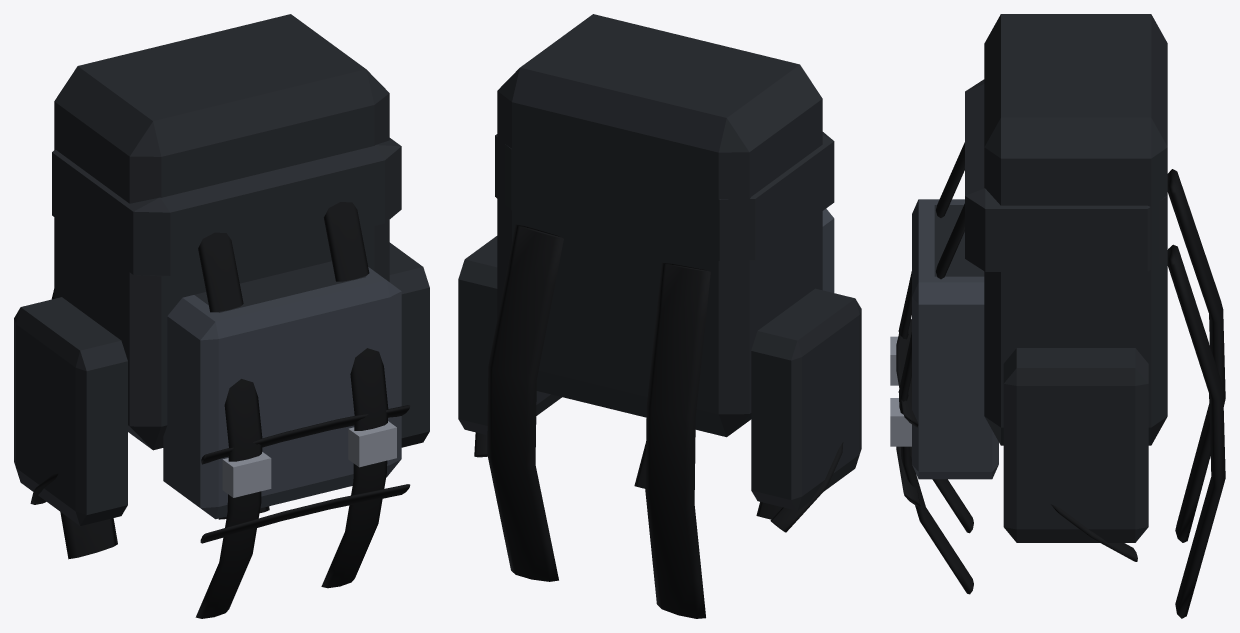
File: ransel_pubg_lv3_lowpoly.glb
The picture shows the model from 3 angles, left to right: view 1: azimuth 30°, elevation 25°; view 2: azimuth 150°, elevation 25°; view 3: azimuth 270°, elevation 25°; orthographic projection. The views are drawn at different scales.
Parts seen in each view (by area): view 1: TesselAsset; view 2: TesselAsset; view 3: TesselAsset.
Part boxes in pixels (bbox=[...]): TesselAsset: bbox=[14, 14, 429, 618]; TesselAsset: bbox=[458, 14, 861, 618]; TesselAsset: bbox=[890, 14, 1225, 618].
Bounding box in the file's own units: 0.8591 × 1.15 × 0.6949.
Materials: 1 (1 with a texture image).
